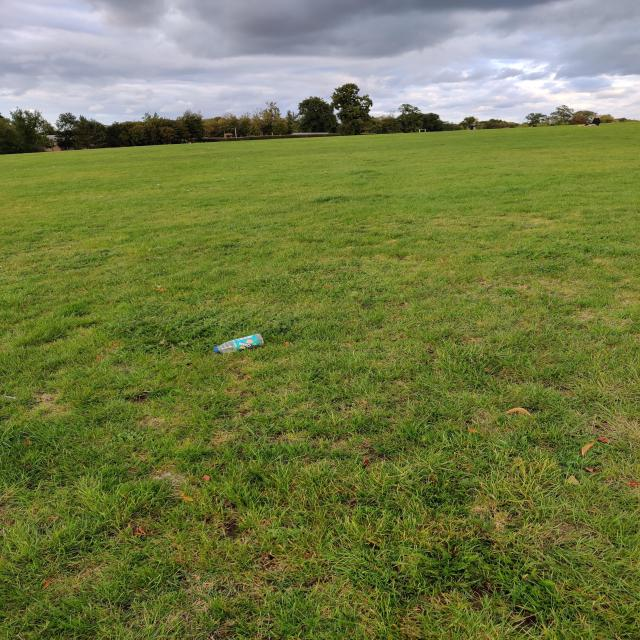litter: (213, 333, 265, 354)
